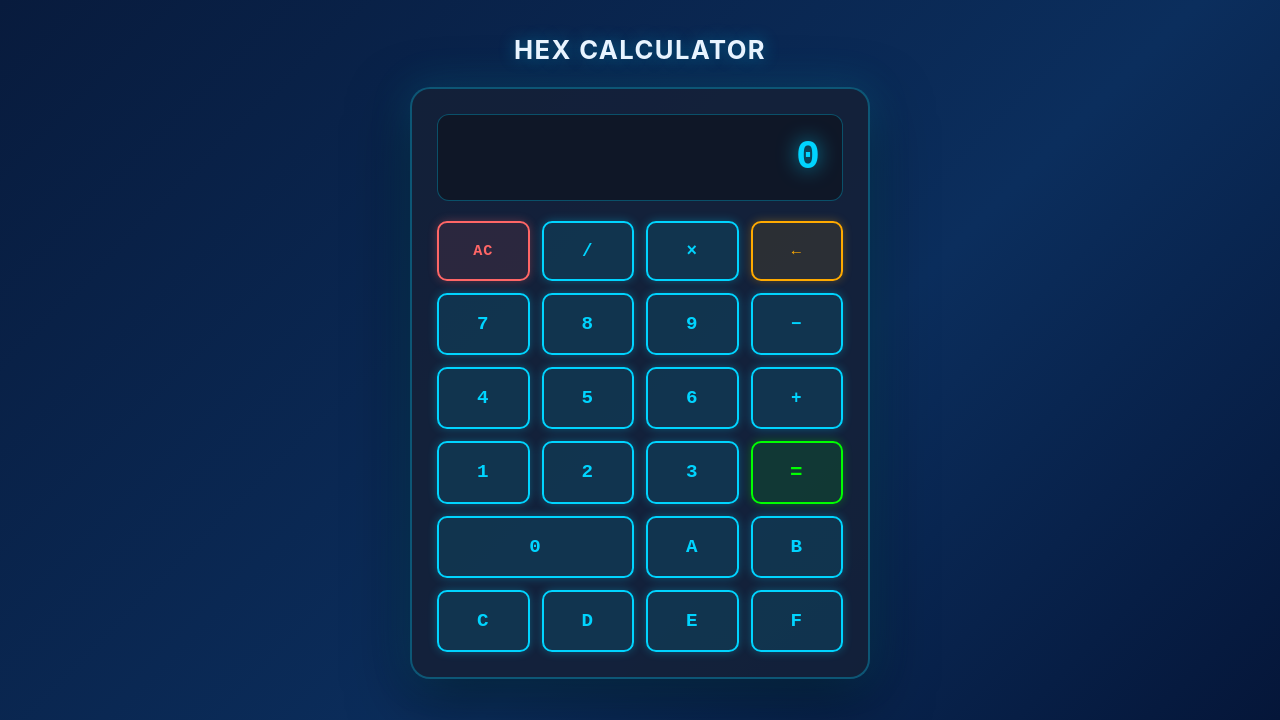
it: Hex Number Buttons › clicking a number button shows it on display
This screenshot has width=1280, height=720.
Click the button with test id "btn-A" at point(692, 546), box [646,516,738,578]
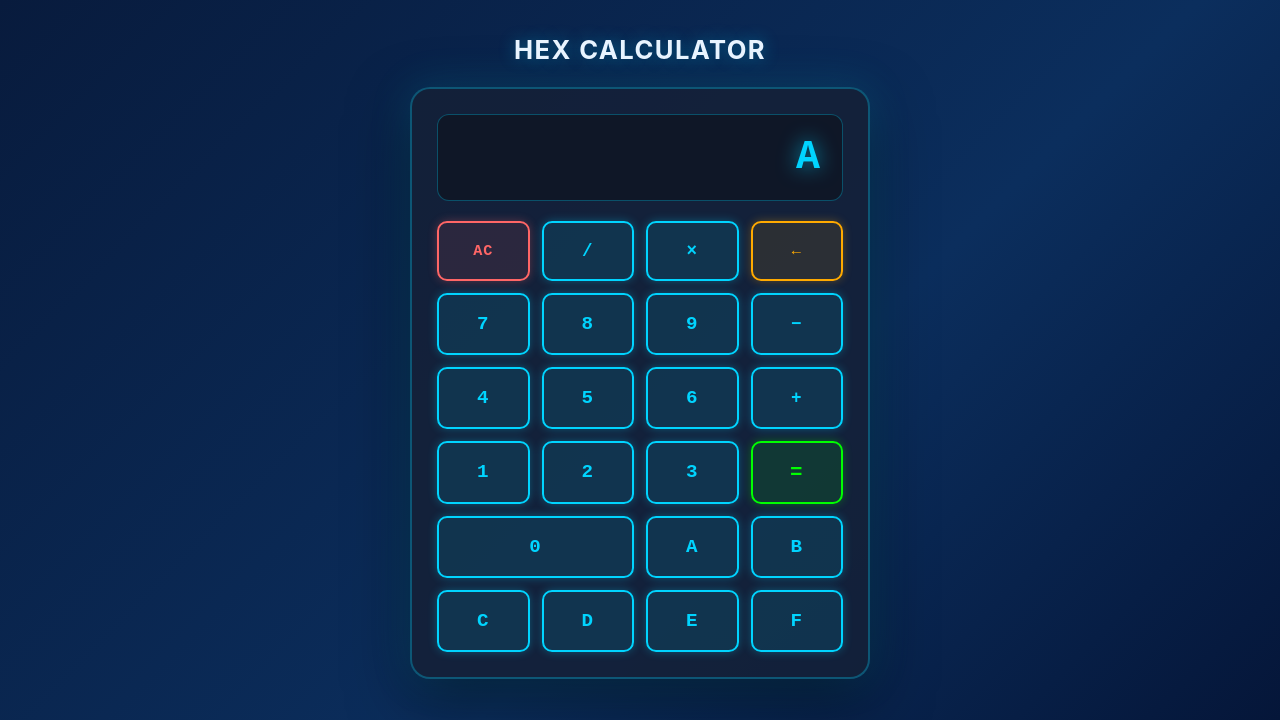
Check: the text with test id "display" reads "A", box [796,134,822,180]
